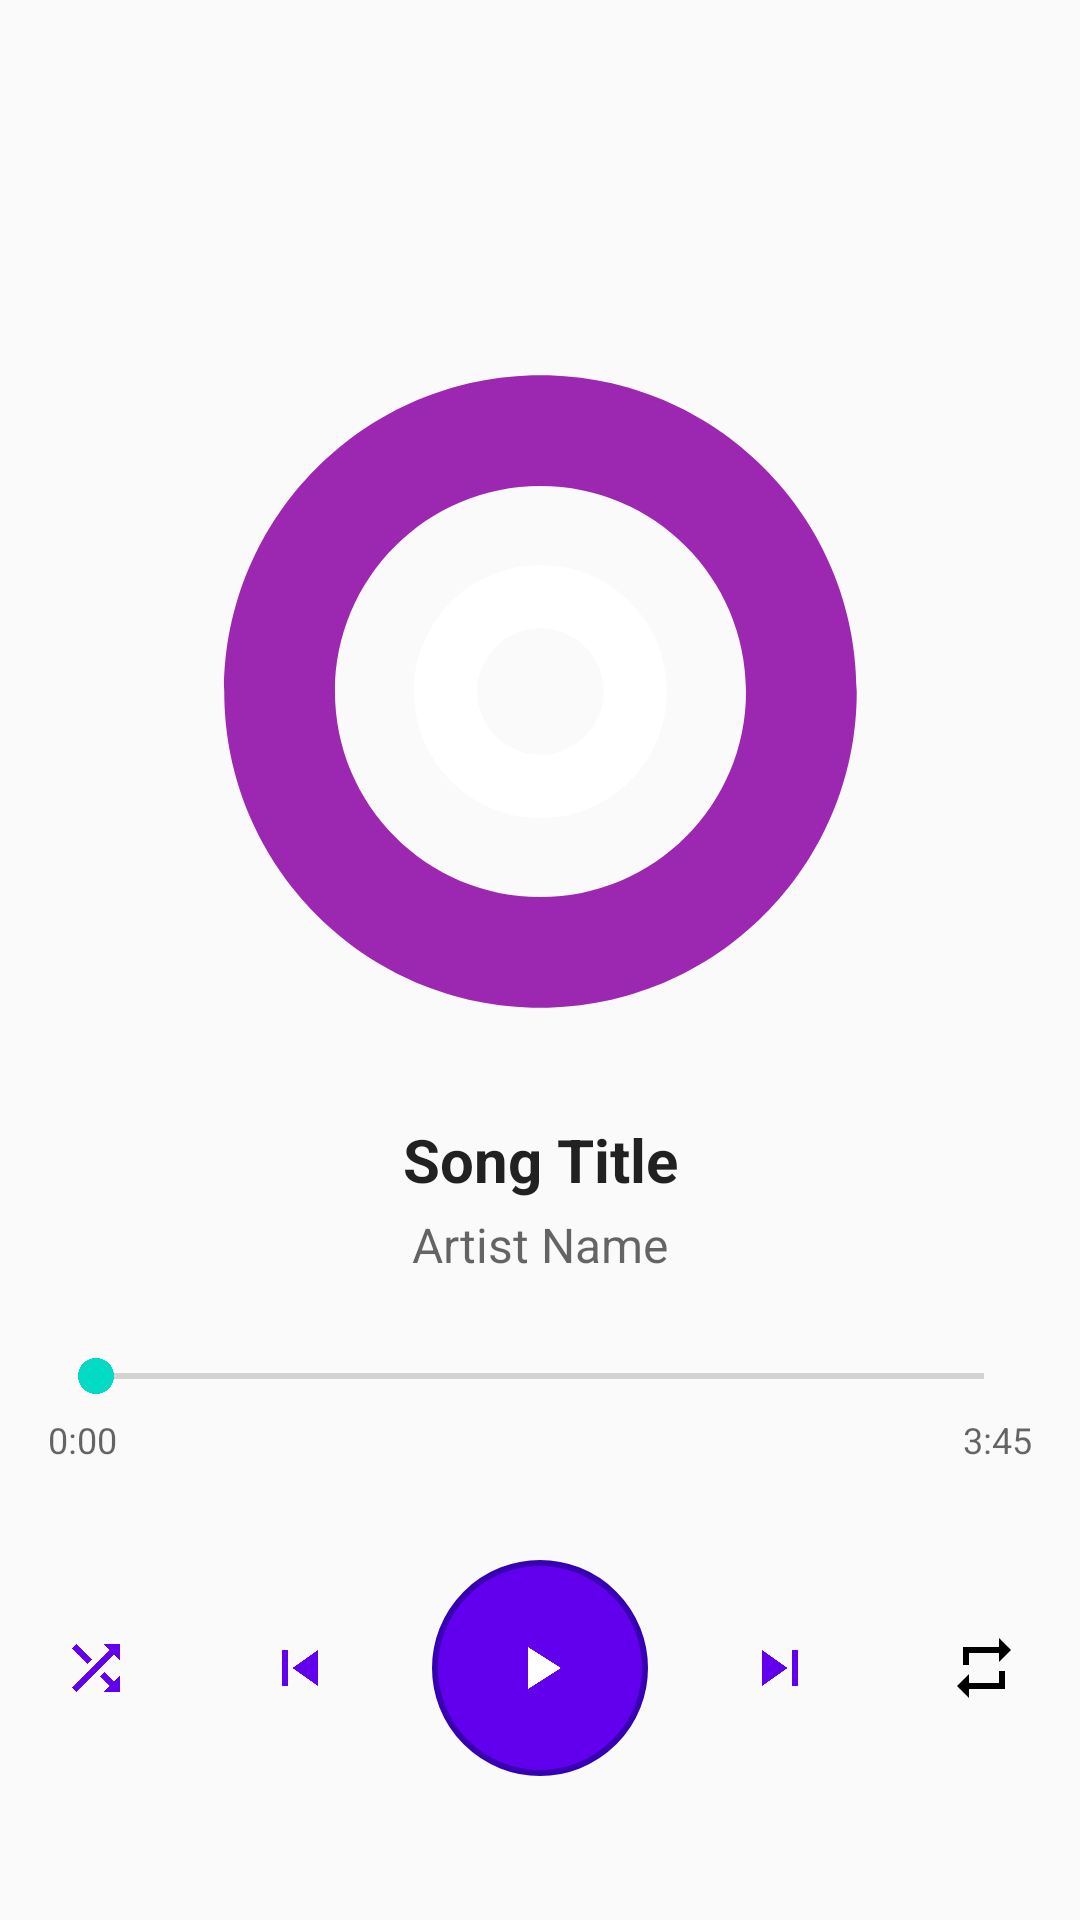

Screen size 1080x1920. Icon name, then its center in pixels as (x=x, y=y):
play: (x=540, y=1668)
skip next: (x=780, y=1668)
skip previous: (x=300, y=1668)
